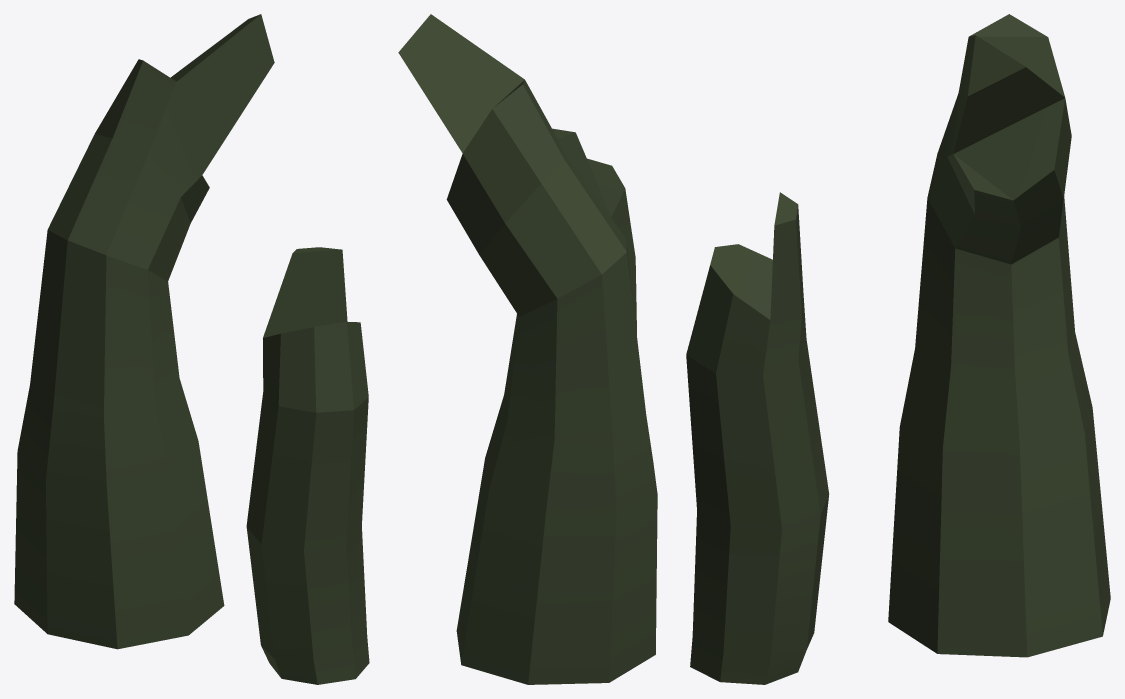
Rendered from EA_Swamp_Root_02f.glb.
3 renders of one model, left to right at view 1: azimuth 30°, elevation 25°; view 2: azimuth 150°, elevation 25°; view 3: azimuth 270°, elevation 25°, orthographic. The views are drawn at different scales.
Parts seen in each view (by area): view 1: EA_Swamp_Root_02f; view 2: EA_Swamp_Root_02f; view 3: EA_Swamp_Root_02f.
Part boxes in pixels (x1,y1,x2,y2): EA_Swamp_Root_02f: (14,14,369,684); EA_Swamp_Root_02f: (398,14,657,684); EA_Swamp_Root_02f: (686,14,1110,684).
Bounding box in the file's own units: 0.683 × 1.63 × 0.9661.
1 material, 1 textured.
